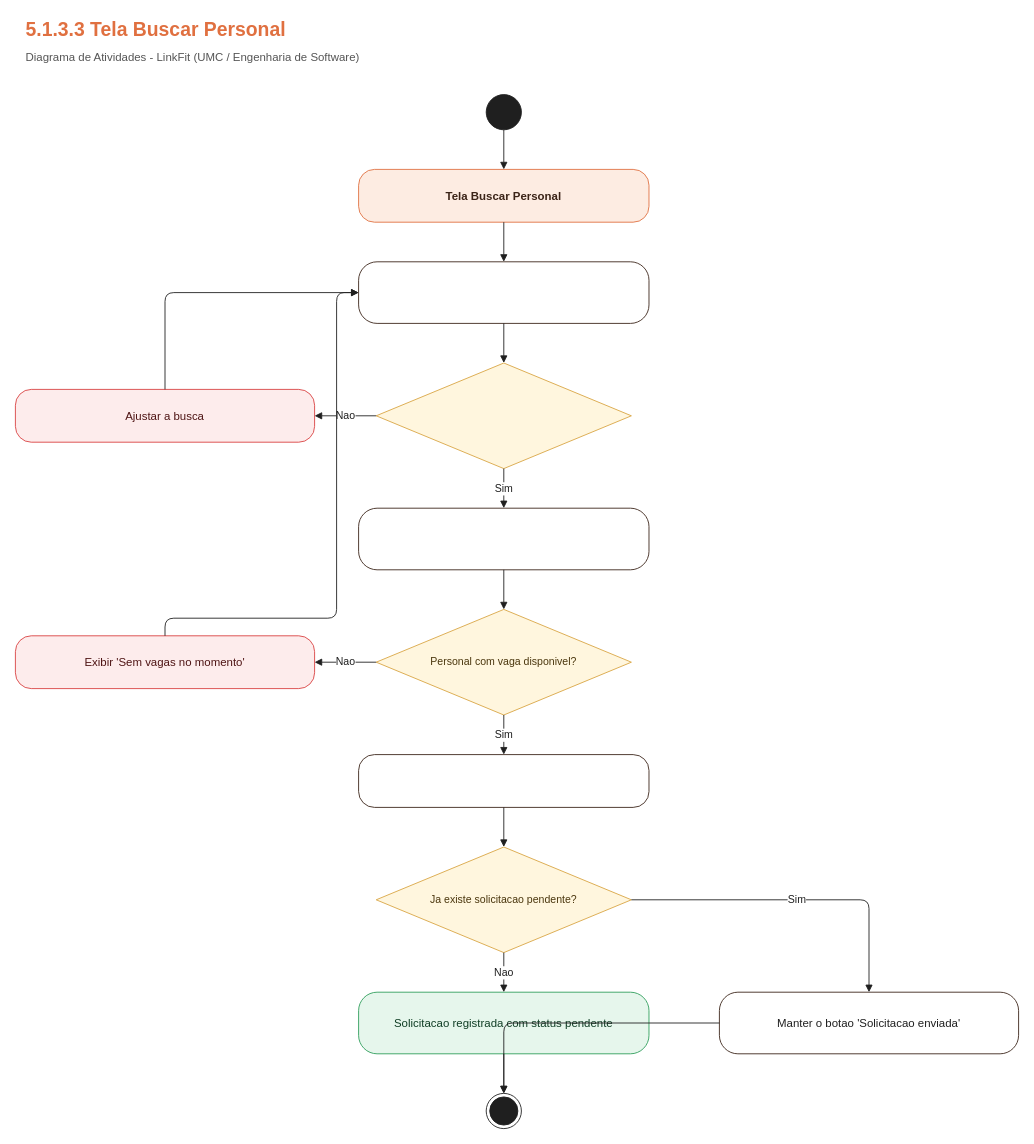
This 1034x1144 diagram has some shape labels left out. Here are the shapes that lost their labels. From the top down, the centre of each, then its label:
At pixel 503 292: "Informar nome ou especialidade e aplicar o filtro".
At pixel 503 415: "Encontrou o profissional?".
At pixel 503 538: "Abrir o perfil do personal (formacao, cursos e valor)".
At pixel 503 780: "Acionar 'Contratar' e confirmar o envio".
